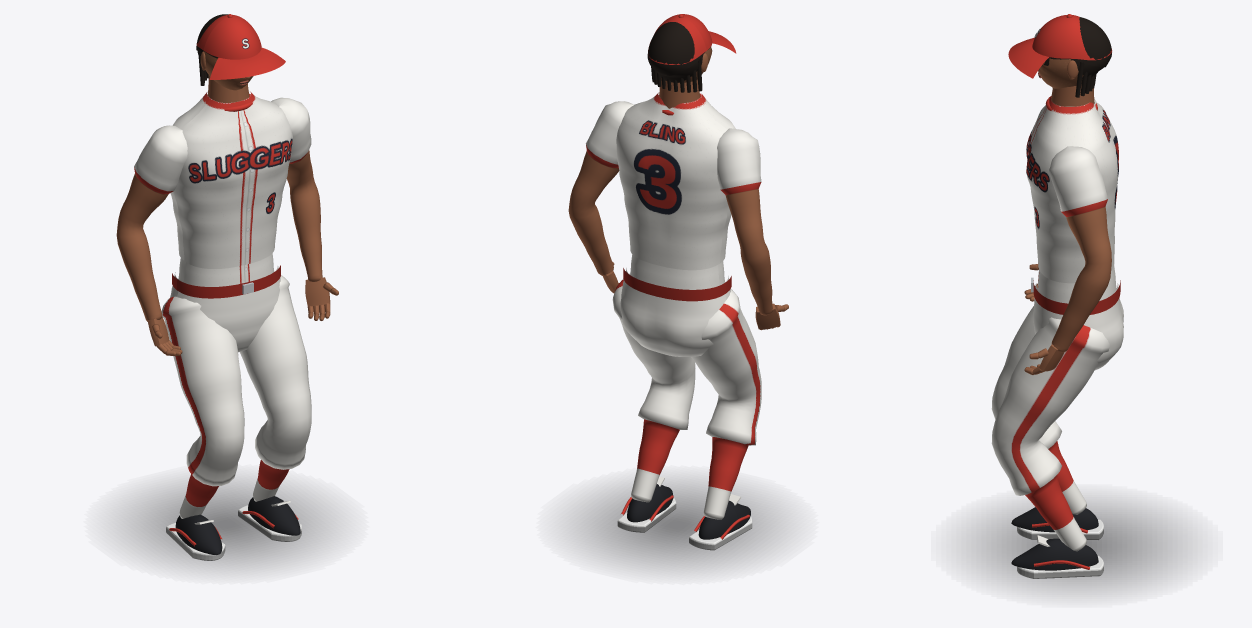
Rendered from player_08_home.glb.
The picture shows the model from 3 angles, left to right: view 1: azimuth 30°, elevation 25°; view 2: azimuth 150°, elevation 25°; view 3: azimuth 270°, elevation 25°; orthographic projection. The views are drawn at different scales.
Parts seen in each view (by area): view 1: player_08_home, object 41, object 43, object 2; view 2: player_08_home, object 29, object 41, object 2; view 3: player_08_home, object 41, object 29, object 45, object 43, object 2.
Boxes of the visible parts, x1,y1,x2,y2 form: player_08_home: (116, 91, 334, 570); object 41: (196, 14, 261, 59); object 43: (209, 47, 285, 79); object 2: (207, 75, 249, 102); player_08_home: (568, 92, 785, 570); object 29: (647, 22, 710, 76); object 41: (648, 14, 712, 64); object 2: (659, 78, 700, 108); player_08_home: (966, 96, 1187, 592); object 41: (1032, 14, 1112, 60); object 29: (1049, 17, 1111, 67); object 45: (1038, 58, 1103, 88); object 43: (1008, 37, 1049, 78); object 2: (1051, 85, 1094, 106).
Size of the model in its own units: 3.3 by 6.1 by 3.3.
26 materials, 5 textured.
